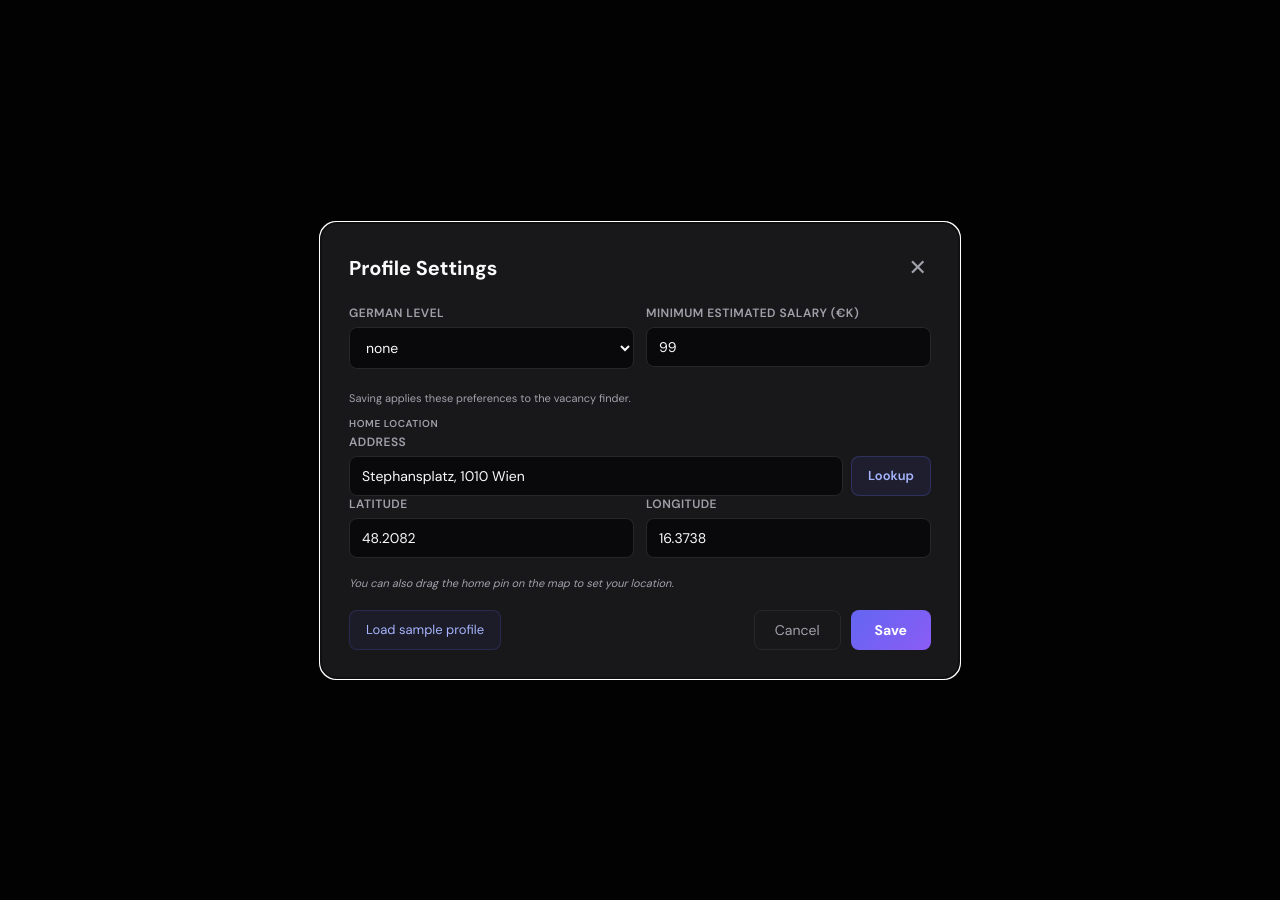
Test case: SettingsModal › Load sample replaces form with defaultProfile
Expected: the number field showing "99" is shown, top-left (646, 326), bottom-right (931, 366)
Click the button "Load sample profile": (425, 630) top-left (349, 610), bottom-right (501, 650)
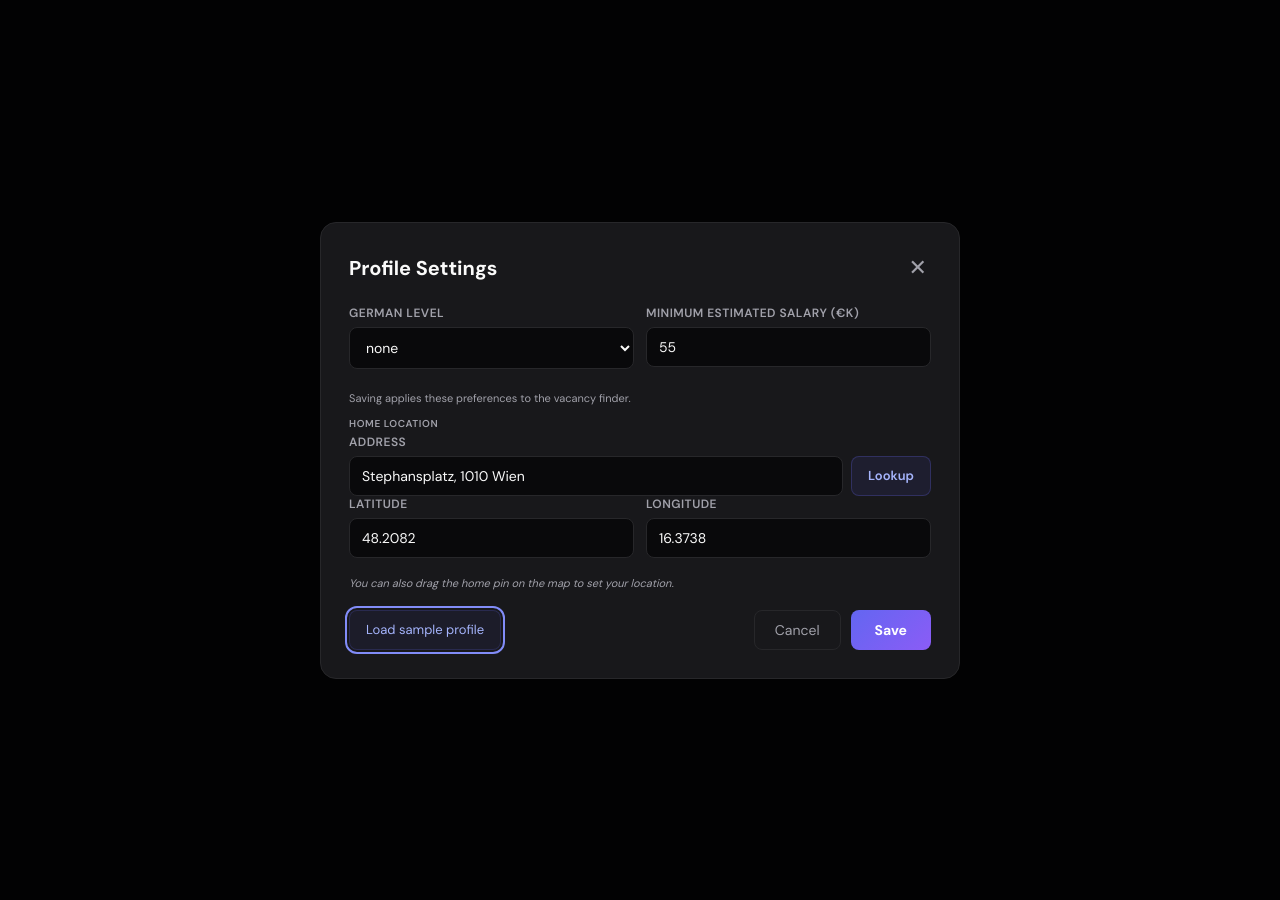
Result: the number field showing "55" is shown at top-left (646, 326), bottom-right (931, 366)
